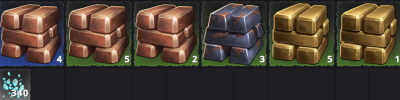ethereal dust: (1, 69, 32, 100)
